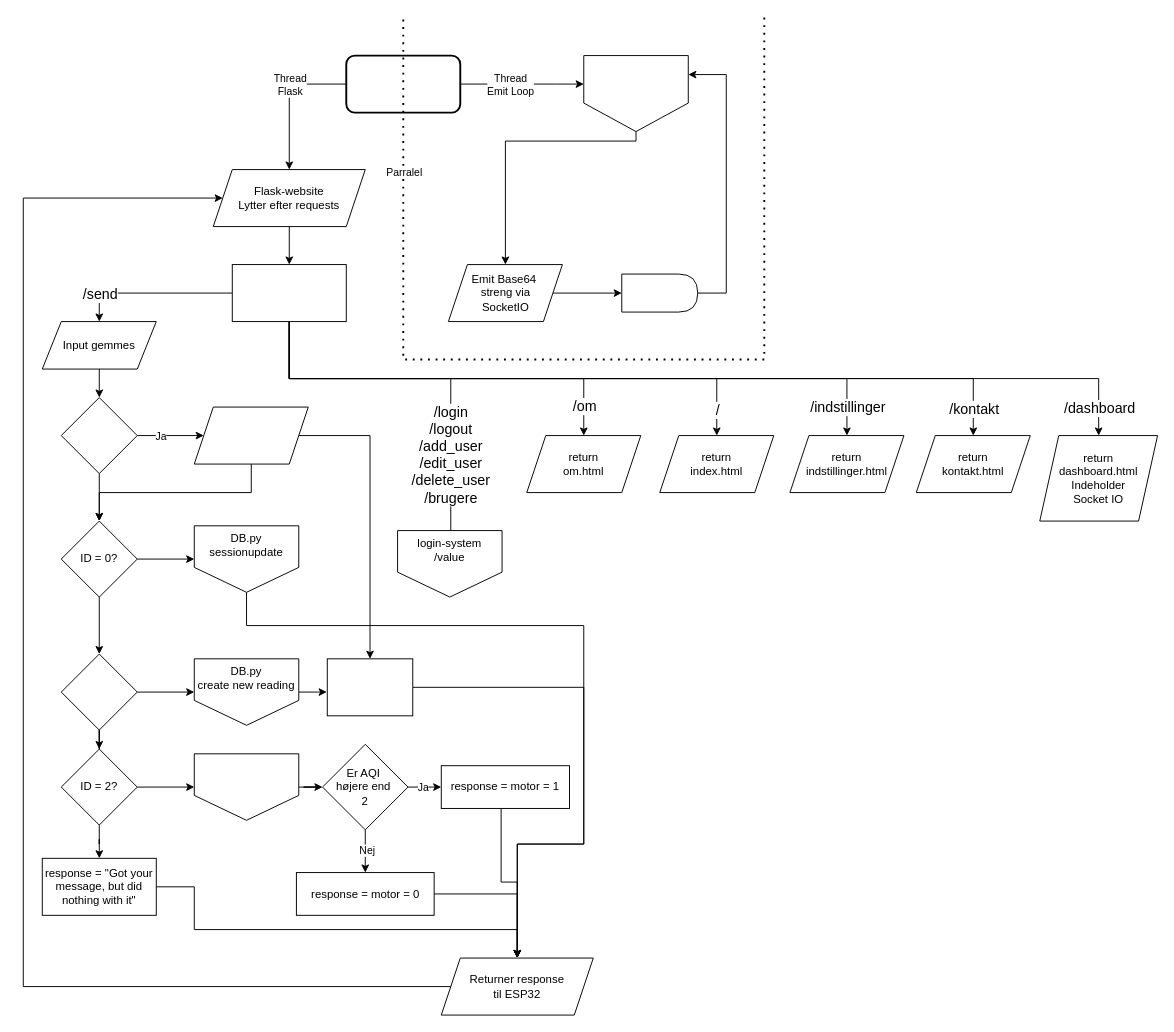
Some shapes in this 1174 by 1032 pixel diagram are drawn without their labels. Each missing label, with the box of its shape:
app.py startes: (345, 54, 461, 113)
DB.py Fetch AQI: (193, 753, 299, 820)
DB.py fetch latest readings: (583, 55, 688, 132)
Fejl gemmes i DB: (193, 406, 308, 464)
Fejl?: (60, 397, 137, 474)
Flask matcher ruten: (231, 264, 346, 322)
ID = 1?: (60, 653, 137, 730)
response = "Success": (326, 658, 413, 716)
Vent 2 sek.: (621, 273, 698, 312)
